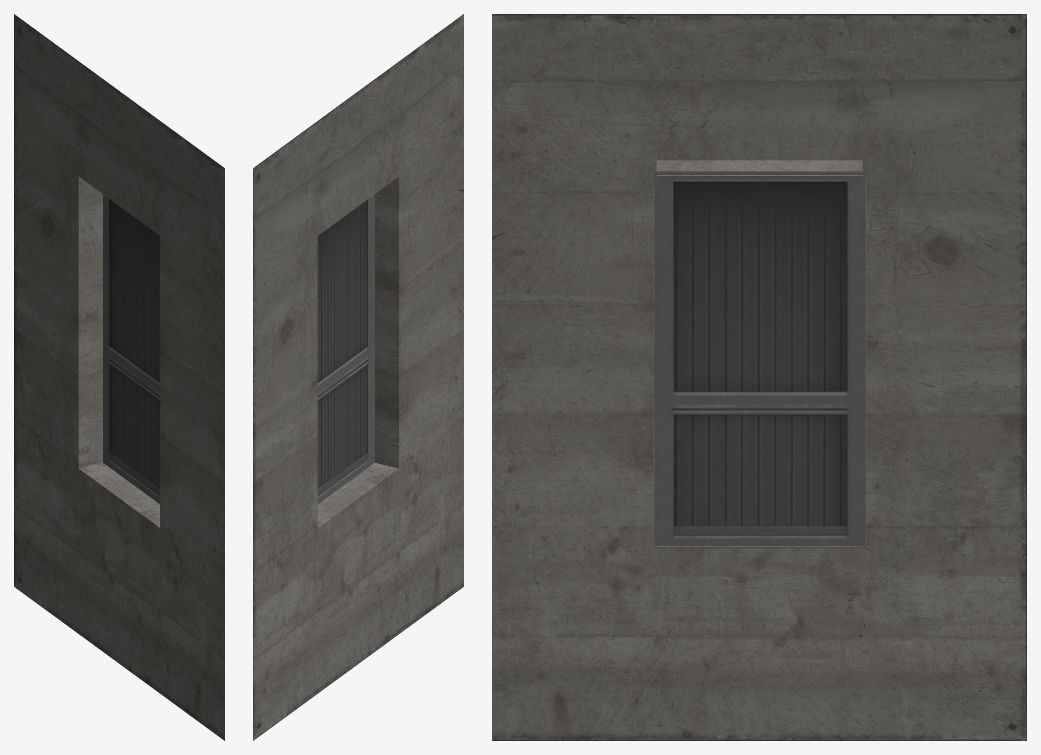
File: CP_Windows_B_2x3m_02.fbx
The picture shows the model from 3 angles, left to right: view 1: azimuth 30°, elevation 25°; view 2: azimuth 150°, elevation 25°; view 3: azimuth 270°, elevation 25°; orthographic projection. The views are drawn at different scales.
Parts seen in each view (by area): view 1: CP_Windows_B_2x3m_02; view 2: CP_Windows_B_2x3m_02; view 3: CP_Windows_B_2x3m_02.
Boxes of the visible parts, x1,y1,x2,y2 form: CP_Windows_B_2x3m_02: (14, 14, 224, 740); CP_Windows_B_2x3m_02: (253, 14, 463, 740); CP_Windows_B_2x3m_02: (492, 14, 1026, 740).
Size of the model in its own units: 13.89 by 300 by 200.
